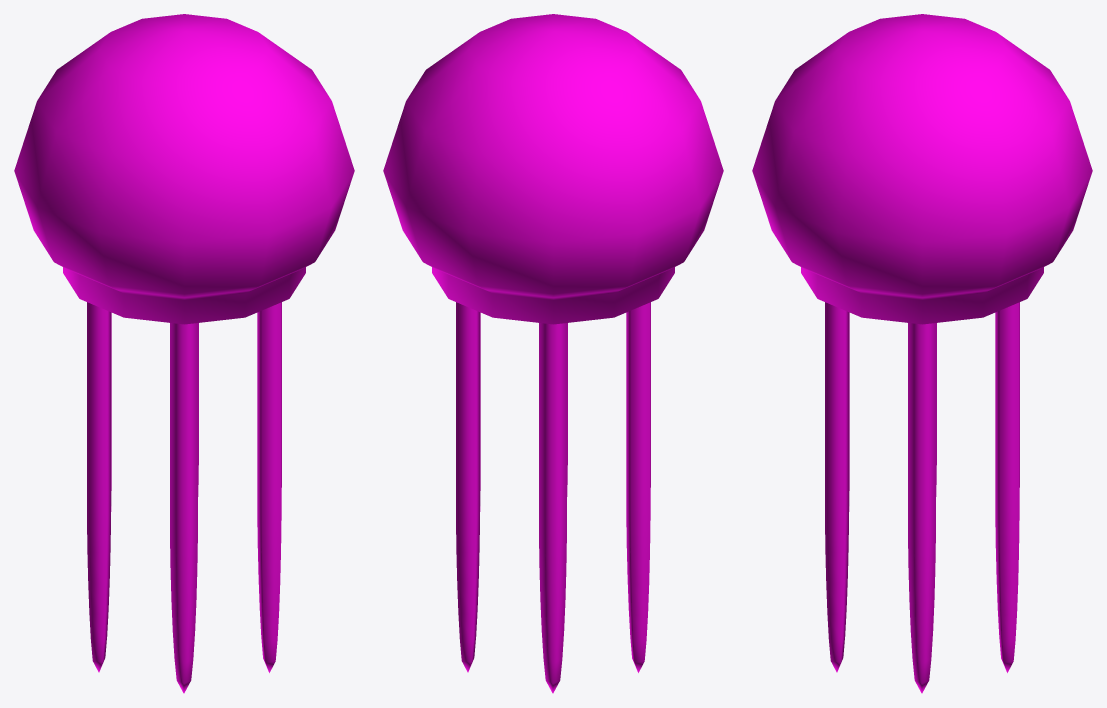
The model's file is mesh_jellyfish.fbx.
The picture shows the model from 3 angles, left to right: view 1: azimuth 30°, elevation 25°; view 2: azimuth 150°, elevation 25°; view 3: azimuth 270°, elevation 25°; orthographic projection.
Visible parts, largest first — view 1: mesh_jellyfish; view 2: mesh_jellyfish; view 3: mesh_jellyfish.
Boxes of the visible parts, x1,y1,x2,y2 form: mesh_jellyfish: (14, 14, 354, 693); mesh_jellyfish: (383, 14, 723, 693); mesh_jellyfish: (752, 14, 1092, 693).
Bounding box in the file's own units: 23.51 × 47.33 × 23.51.
